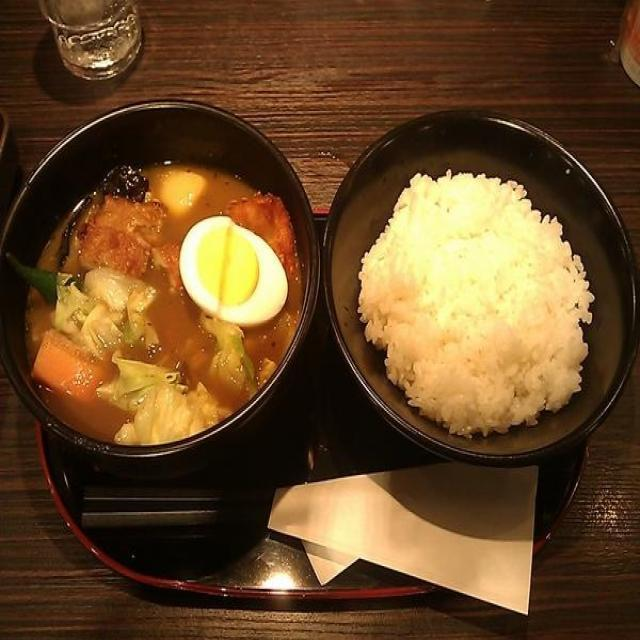Rice: (366, 158, 602, 430)
